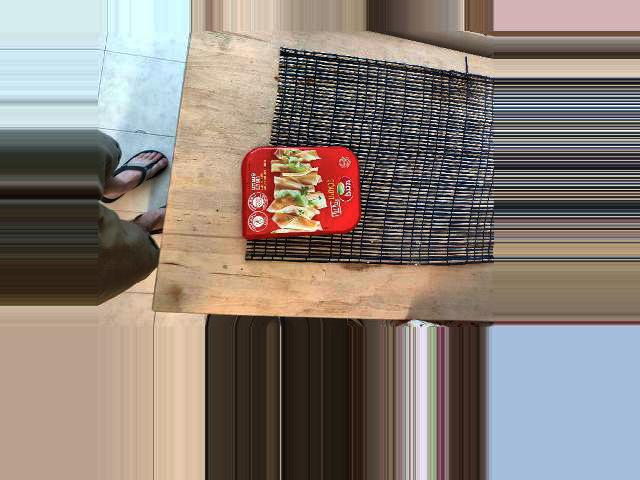cheese: (219, 132, 366, 278)
